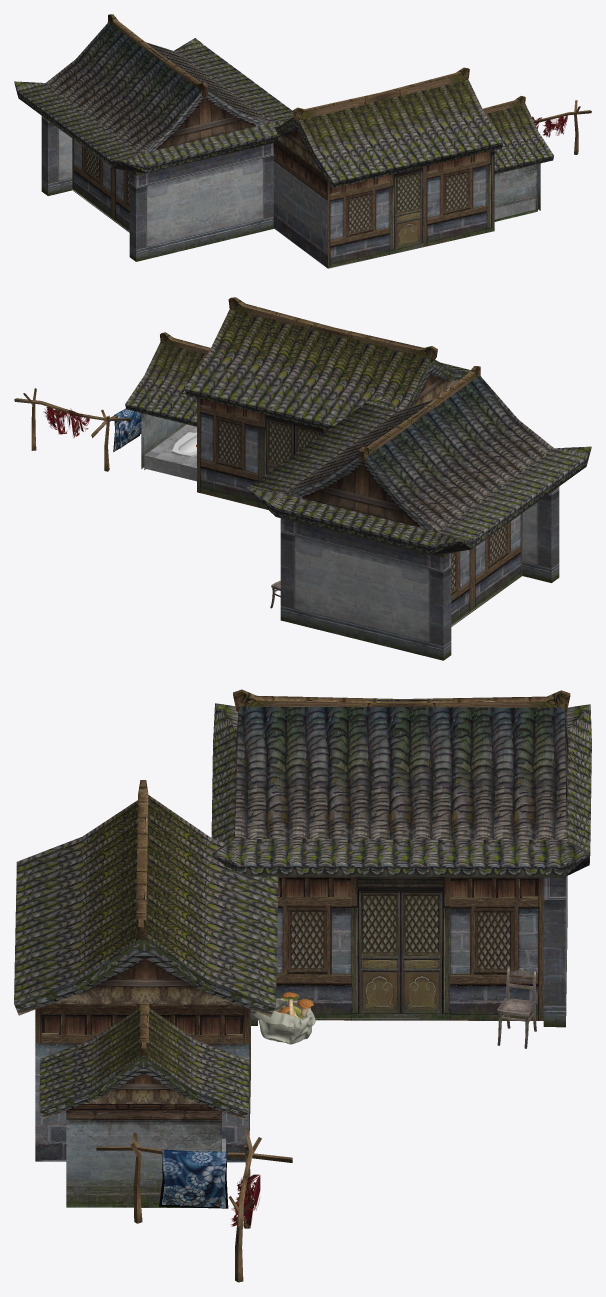
Rendered from chinese_house.glb.
The picture shows the model from 3 angles, top to bottom: view 1: azimuth 30°, elevation 25°; view 2: azimuth 150°, elevation 25°; view 3: azimuth 270°, elevation 25°; orthographic projection. The views are drawn at different scales.
Visible parts, largest first — view 1: Material2 (×11); view 2: Material2 (×12); view 3: Material2 (×12).
Part boxes in pixels (box(x1,y1,x2,y2)): Material2 (×11): box(14, 14, 591, 268); Material2 (×12): box(14, 297, 591, 660); Material2 (×12): box(14, 689, 591, 1282).
Size of what is drawn, in the model's own units: 845 by 277 by 512.
75 materials, 67 textured.
